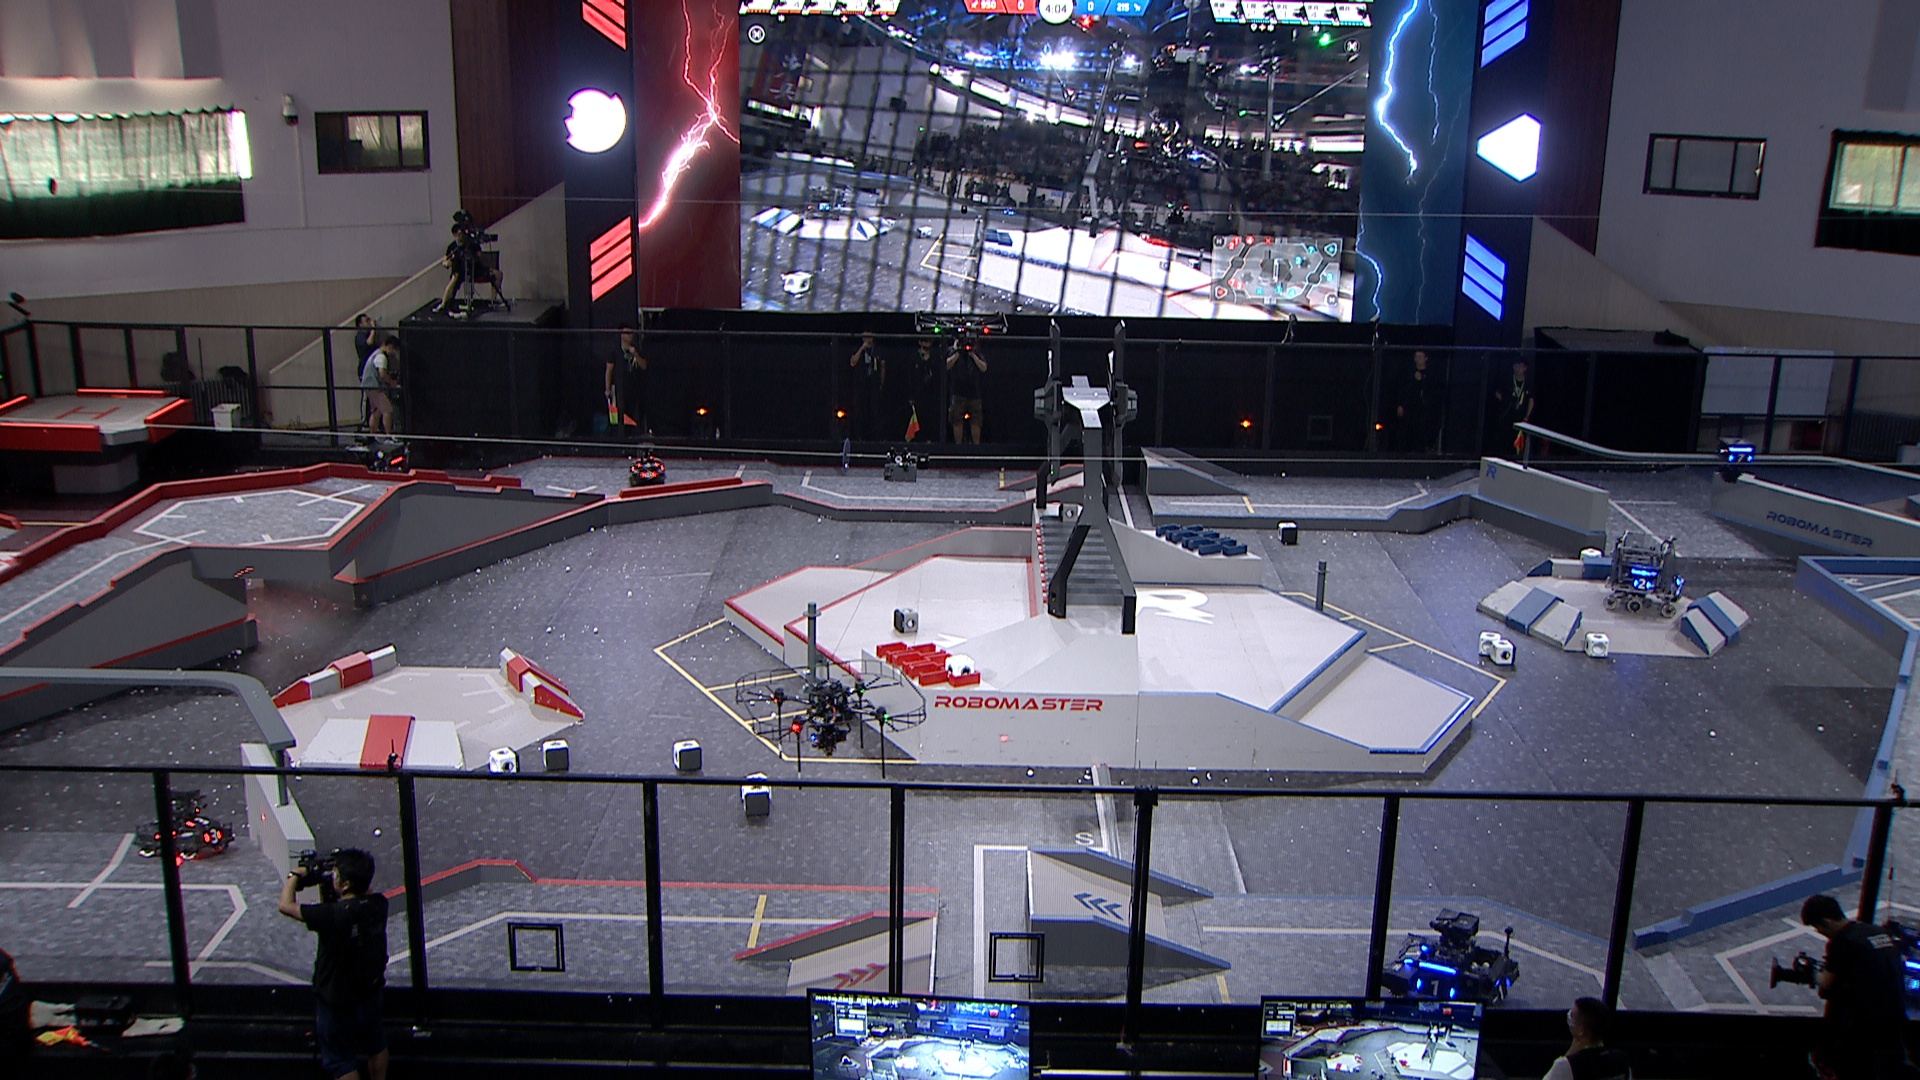armor: (1414, 975, 1458, 1001), (1403, 943, 1428, 965), (1493, 978, 1513, 1004), (183, 815, 215, 828), (1727, 452, 1755, 465), (204, 827, 223, 845), (1633, 578, 1652, 591), (640, 471, 659, 481), (636, 462, 661, 469)
car: (1371, 903, 1519, 1021), (131, 782, 235, 862), (1604, 531, 1688, 618), (1854, 918, 1920, 1002), (348, 436, 414, 505), (626, 442, 666, 489)
ignore: (808, 183, 847, 219)
watcher: (1714, 436, 1756, 484)
